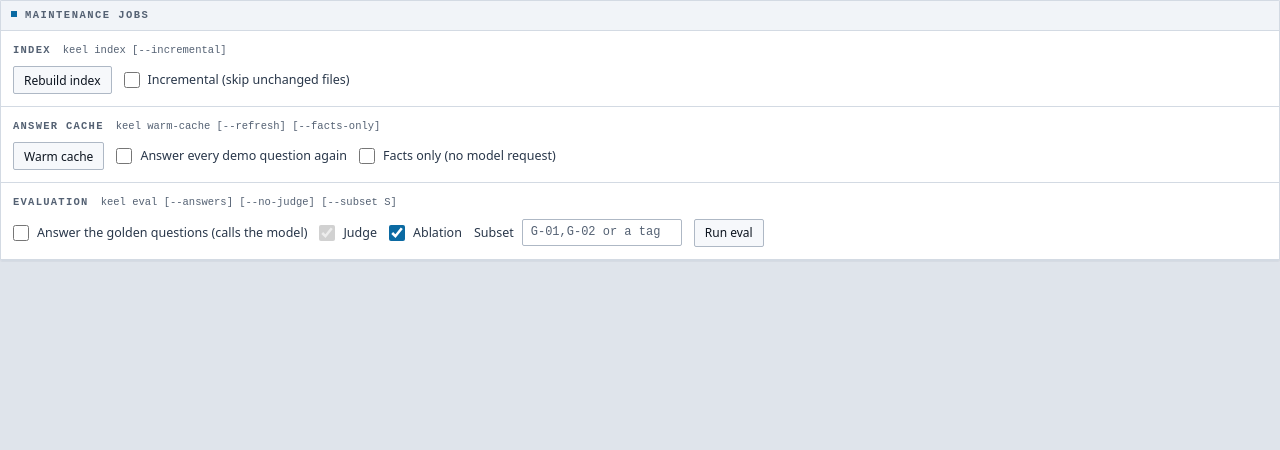
MaintenancePanel › closes the cost confirmation when an option changes
The image size is (1280, 450).
What coordinates should you click on to do the following:
click the checkbox with test id "eval-answers"
I would click on:
 (21, 233)
Its box is [13, 225, 29, 241].
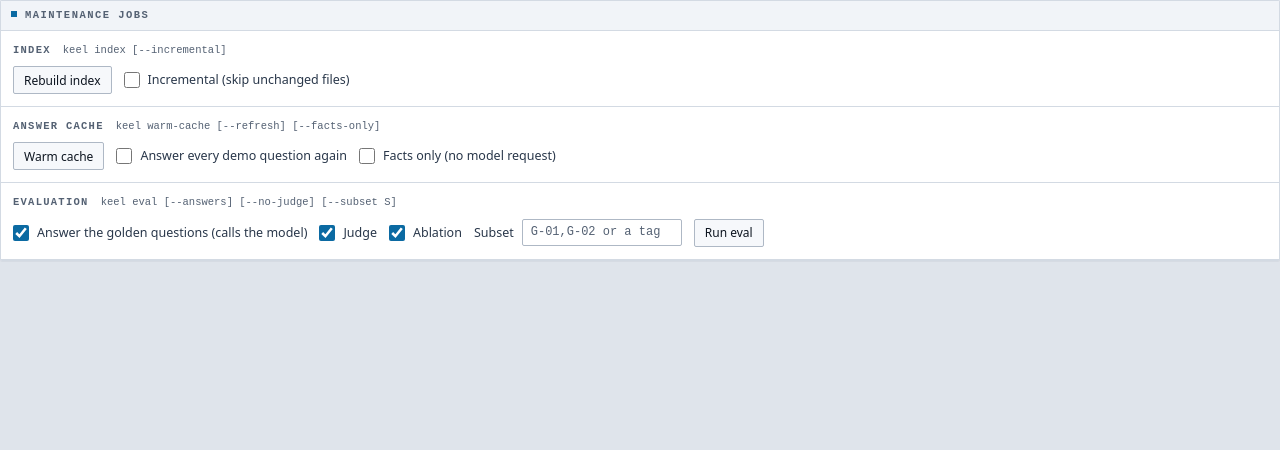
What coordinates should you click on to do the following:
click the button with test id "eval-run"
I would click on:
 (729, 233)
Its box is [694, 219, 764, 247].
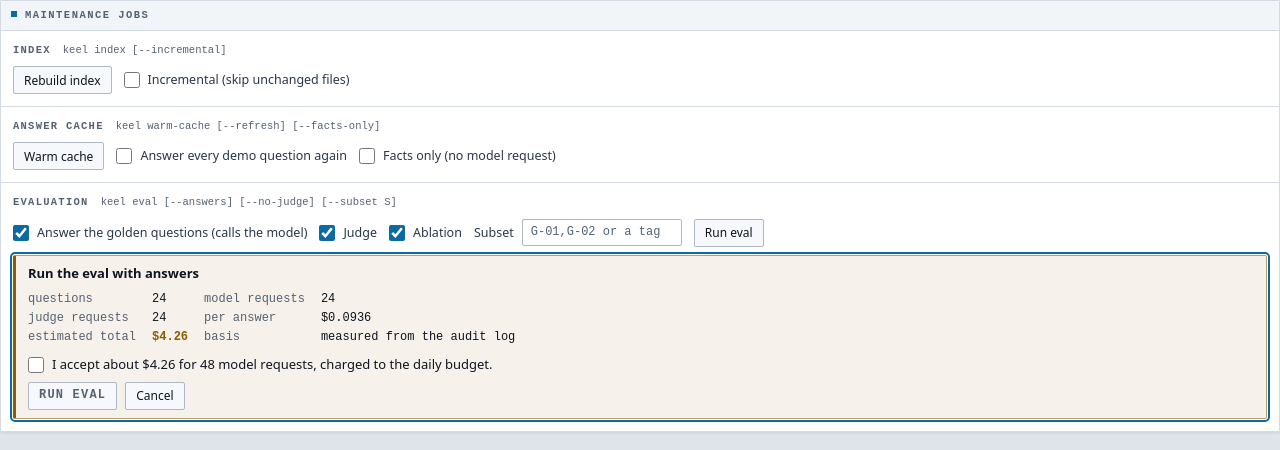
Expected: the text "$4.26" is shown, [152, 329, 188, 347]
What coordinates should you click on to do the following:
click the checkbox with test id "eval-confirm-accept"
I would click on:
 (36, 365)
Its box is [28, 357, 44, 373].
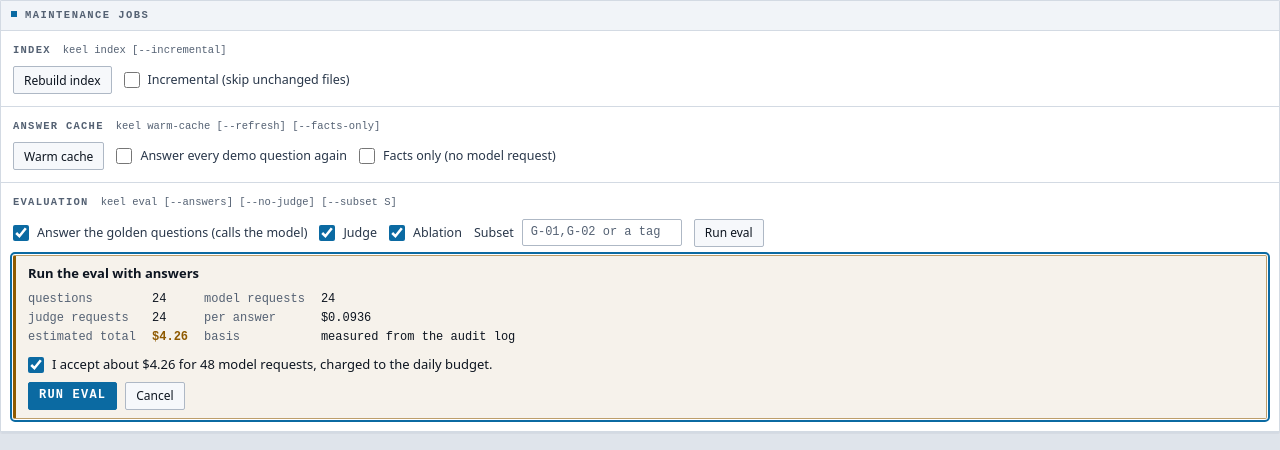
// Unticking the answers closes the panel: its price no longer applies.
What coordinates should you click on to do the following:
click the checkbox with test id "eval-answers"
I would click on:
 (21, 233)
Its box is [13, 225, 29, 241].
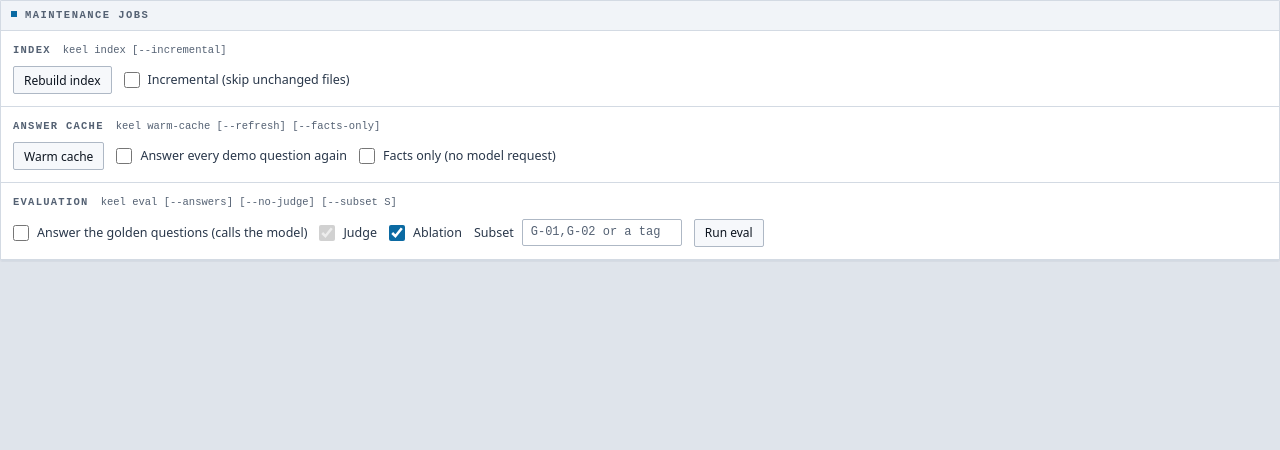
Expected: the element with test id "eval-confirm" is gone
What coordinates should you click on to do the following:
click the checkbox with test id "eval-answers"
I would click on:
 (21, 233)
Its box is [13, 225, 29, 241].
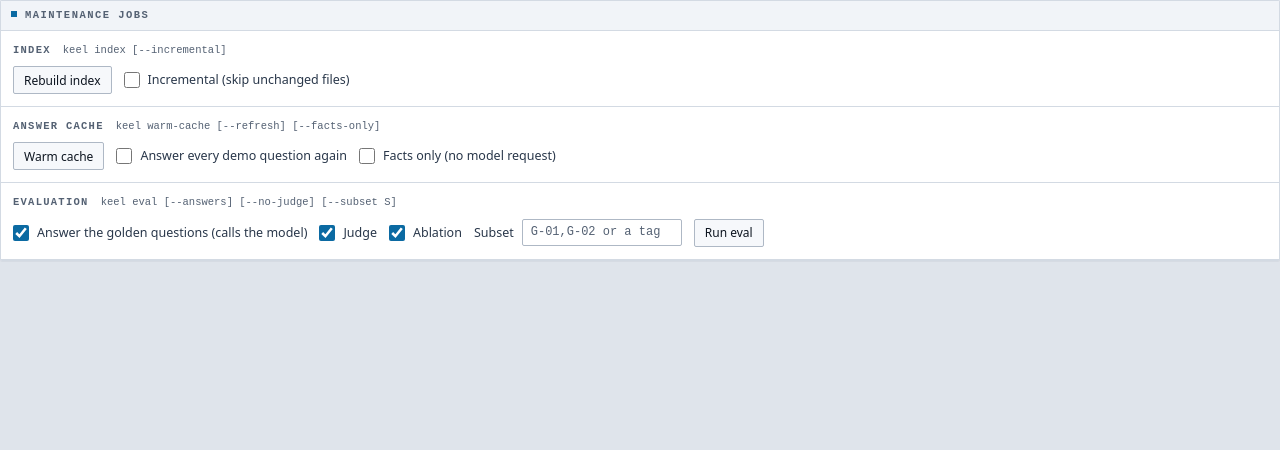
What coordinates should you click on to do the following:
click the button with test id "eval-run"
I would click on:
 (729, 233)
Its box is [694, 219, 764, 247].
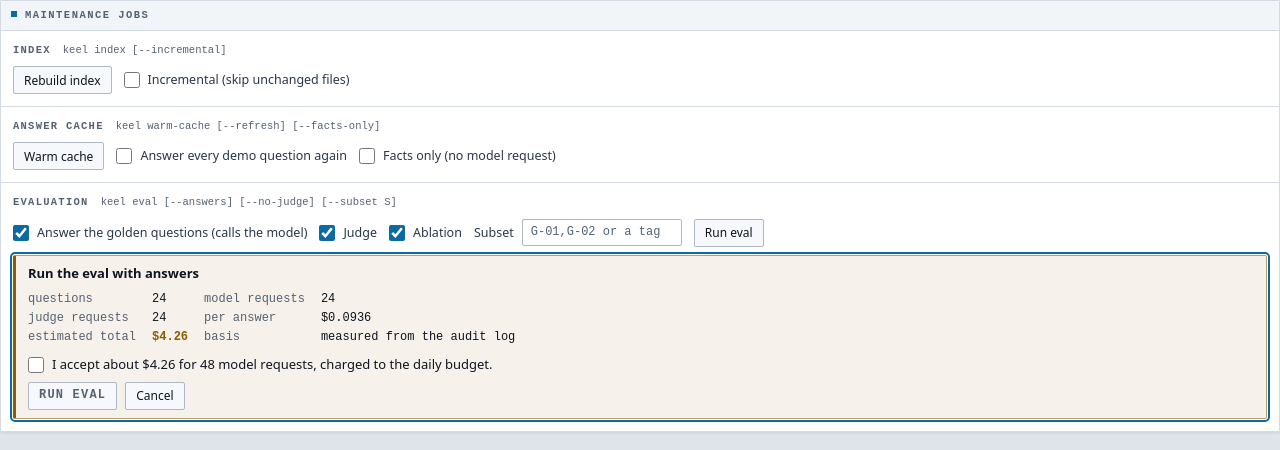
Expected: the checkbox with test id "eval-confirm-accept" is not checked, [28, 357, 44, 373]
